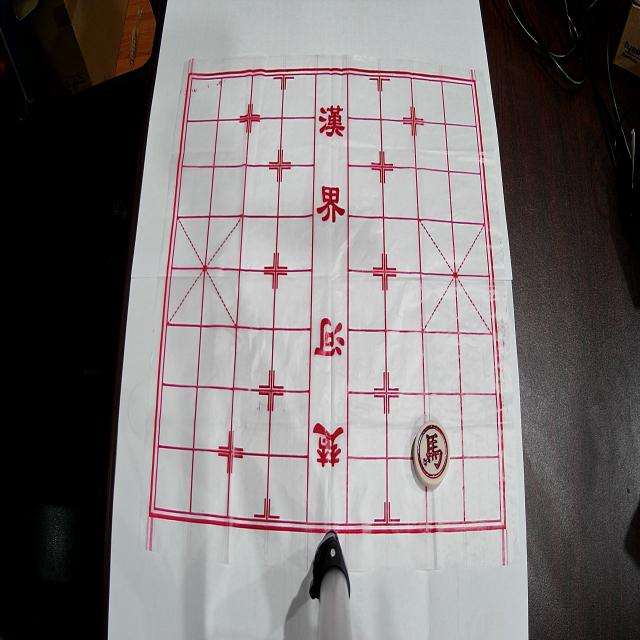red-horse: (413, 420, 450, 488)
